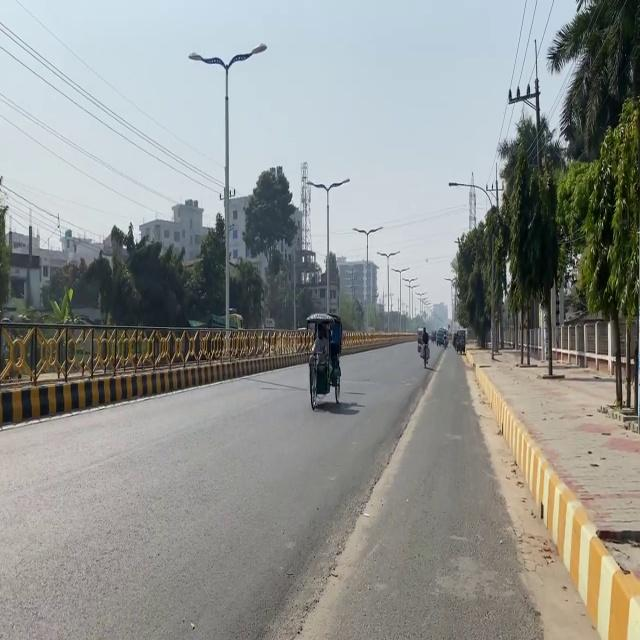Construction-barrier: (463, 346, 639, 638), (260, 454, 449, 638)
Fallen-tree: (417, 340, 430, 368)
Garbage: (305, 312, 342, 409)
Pole: (4, 310, 214, 432)
Pothole: (327, 339, 640, 640)
Traffic-cone: (187, 307, 243, 330)
